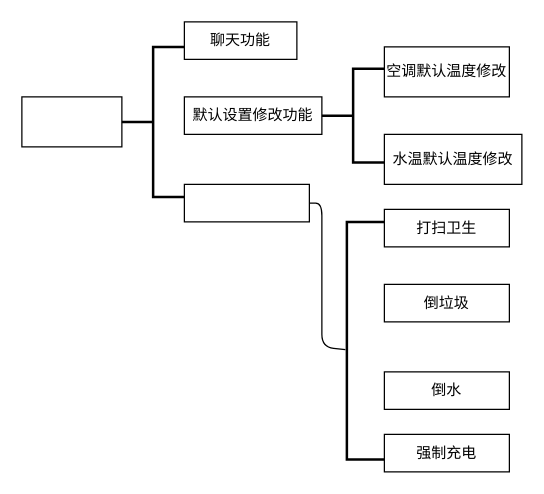
This 544x494 diagram has some shape labels left out. Here are the shapes that lost their labels. From the top down, the box of each, then its label:
(21, 96, 122, 147): 手动控制
(183, 183, 309, 222): 手动指令
